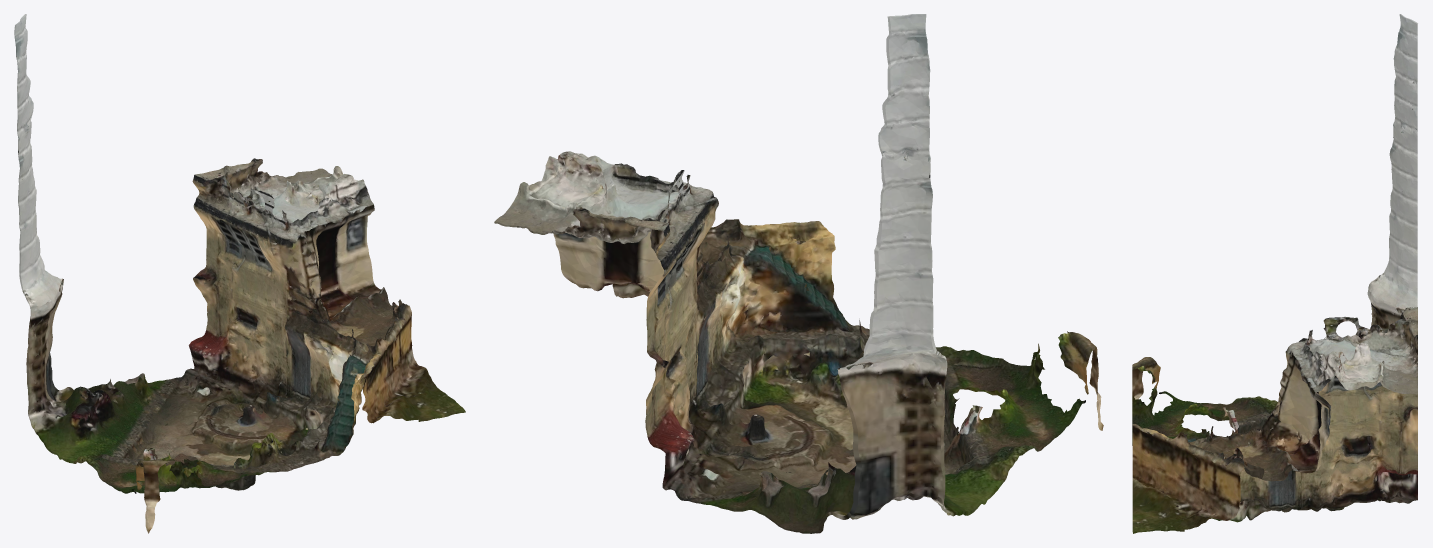
3 renders of one model, left to right at view 1: azimuth 30°, elevation 25°; view 2: azimuth 150°, elevation 25°; view 3: azimuth 270°, elevation 25°, orthographic. The views are drawn at different scales.
Visible parts, largest first — view 1: node_22; view 2: node_22; view 3: node_22.
Part boxes in pixels (bbox=[...]): node_22: bbox=[14, 14, 465, 533]; node_22: bbox=[494, 14, 1103, 533]; node_22: bbox=[1132, 14, 1417, 533].
Size of the model in its own units: 9.46 by 11.76 by 7.42.
Materials: 1 (1 with a texture image).
